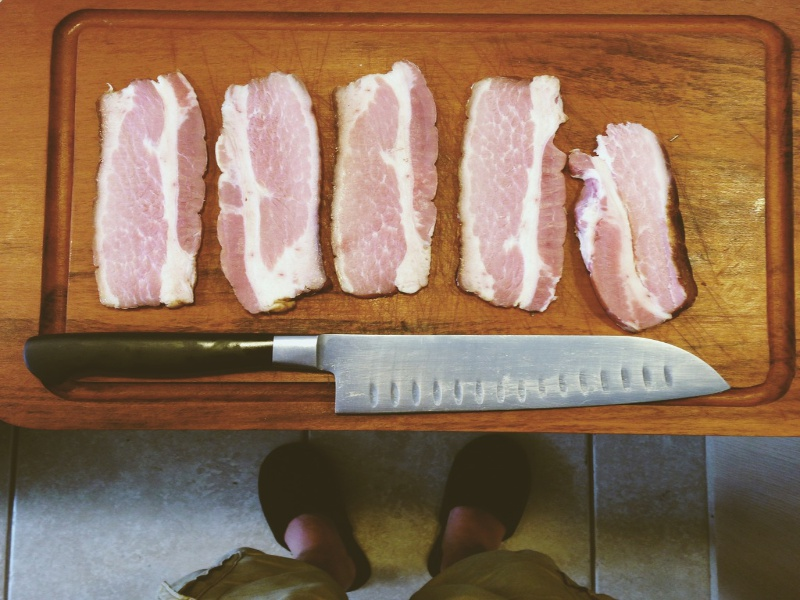knife: (16, 328, 745, 422)
